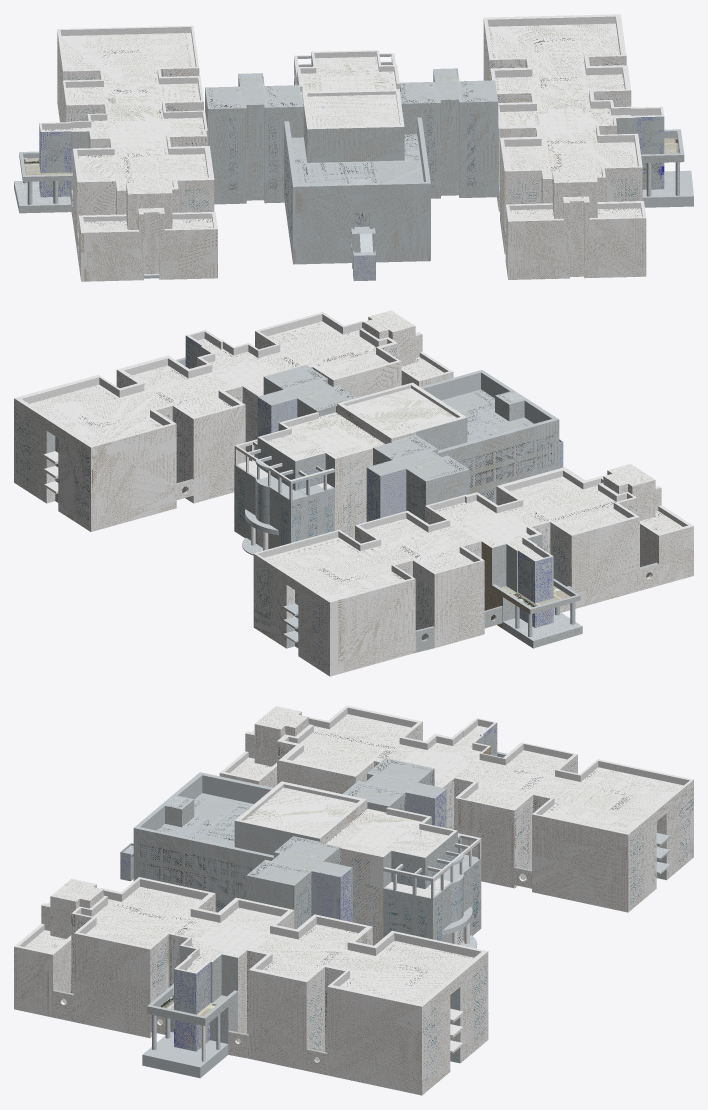
File: jaume_plantilla.dae
3 renders of one model, top to bottom at view 1: azimuth 30°, elevation 25°; view 2: azimuth 150°, elevation 25°; view 3: azimuth 270°, elevation 25°, orthographic. The views are drawn at different scales.
Parts seen in each view (by area): view 1: instance_0_139, instance_0_149, instance_0_108, instance_0_021, instance_0_061, instance_0_011, instance_0_008, instance_0_020, instance_0_281, instance_0_151, instance_0_150, instance_0_141 (+35 smaller); view 2: instance_0_139, instance_0_149, instance_0_118, instance_0_203, instance_0_021, instance_0_119, instance_0_062, instance_0_080, instance_0_151, instance_0_141, instance_0_150, instance_0_143 (+35 smaller); view 3: instance_0_108, instance_0_149, instance_0_139, instance_0_087, instance_0_060, instance_0_119, instance_0_080, instance_0_151, instance_0_150, instance_0_141, instance_0_143, instance_0_145 (+30 smaller).
Part boxes in pixels (x1,y1,x2,y2): instance_0_139: [42, 33, 207, 189]; instance_0_149: [488, 23, 656, 177]; instance_0_108: [498, 117, 684, 279]; instance_0_021: [14, 88, 217, 281]; instance_0_061: [293, 183, 430, 264]; instance_0_011: [284, 85, 421, 162]; instance_0_008: [459, 101, 498, 197]; instance_0_020: [208, 108, 246, 204]; instance_0_281: [291, 134, 423, 184]; instance_0_151: [487, 16, 661, 176]; instance_0_150: [483, 14, 664, 178]; instance_0_141: [41, 27, 208, 187]; instance_0_139: [264, 476, 627, 600]; instance_0_149: [30, 321, 388, 444]; instance_0_118: [91, 405, 245, 531]; instance_0_203: [330, 560, 502, 676]; instance_0_021: [426, 469, 693, 648]; instance_0_119: [14, 398, 90, 531]; instance_0_062: [438, 419, 559, 503]; instance_0_080: [253, 554, 329, 676]; instance_0_151: [22, 314, 396, 425]; instance_0_141: [257, 470, 634, 579]; instance_0_150: [14, 312, 401, 447]; instance_0_143: [267, 412, 384, 459]; instance_0_108: [14, 884, 421, 1095]; instance_0_149: [86, 886, 473, 1003]; instance_0_139: [293, 714, 683, 832]; instance_0_087: [455, 798, 628, 912]; instance_0_060: [133, 828, 273, 912]; instance_0_119: [422, 951, 488, 1095]; instance_0_080: [628, 780, 693, 911]; instance_0_151: [75, 879, 480, 986]; instance_0_150: [71, 877, 487, 1006]; instance_0_141: [284, 708, 689, 814]; instance_0_143: [326, 808, 447, 856]; instance_0_145: [244, 787, 356, 836].
Size of the model in its own units: 1.12 by 1.02 by 0.1929.
35 materials, 30 textured.
